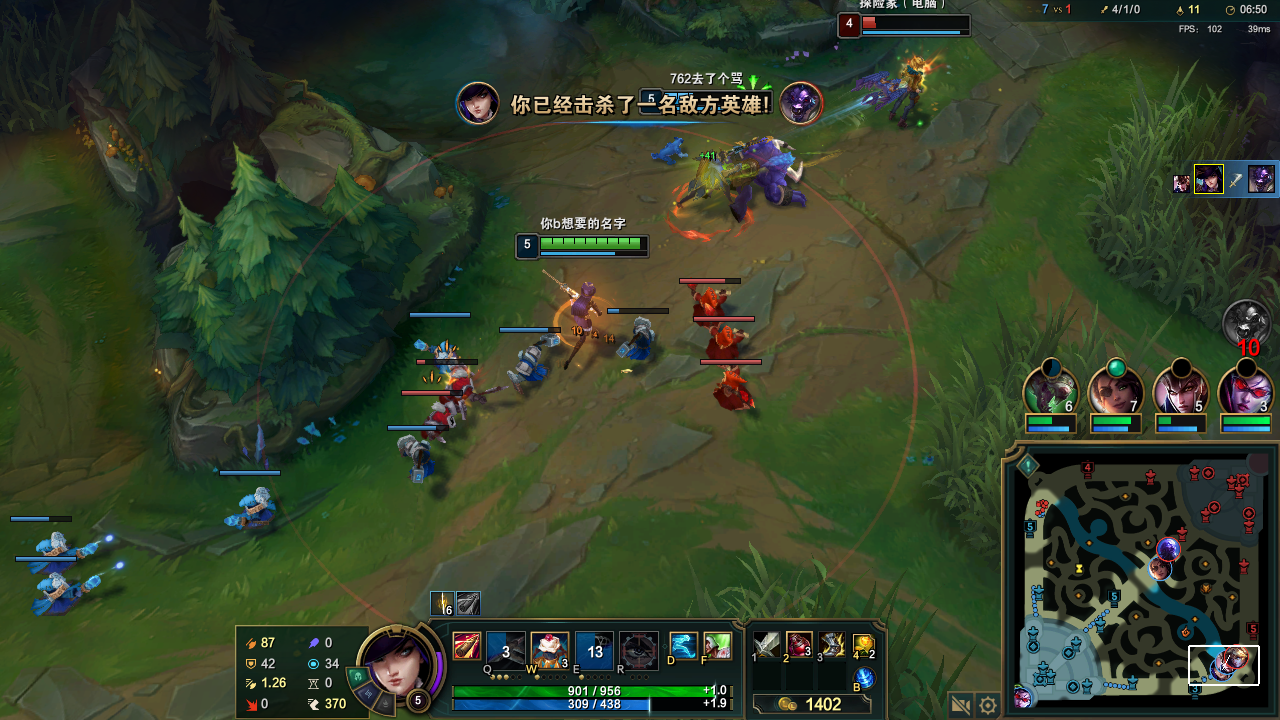DFXB: (713, 374, 751, 416), (423, 400, 454, 439), (691, 291, 724, 323), (707, 329, 742, 359), (446, 372, 471, 399)
DFYX: (858, 17, 932, 30)
WFXB: (36, 570, 107, 619), (24, 533, 89, 573), (227, 489, 283, 527), (615, 324, 655, 364), (402, 438, 437, 477), (514, 345, 546, 386), (425, 342, 452, 366)
